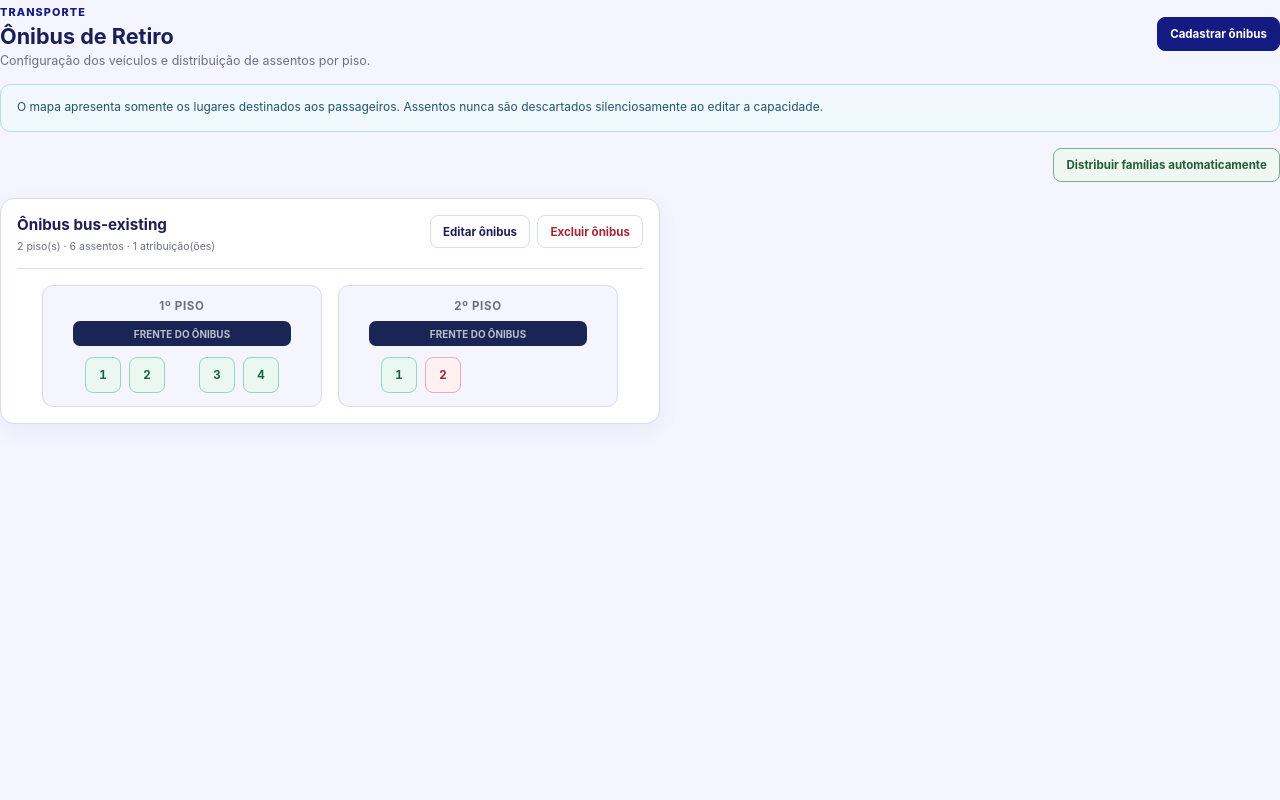
Test: BusManagementPage › não reduz pisos quando isso apagaria assento atribuído
Click the button "Editar ônibus" at x=480, y=232, box x1=430 y1=215 x2=530 y2=248
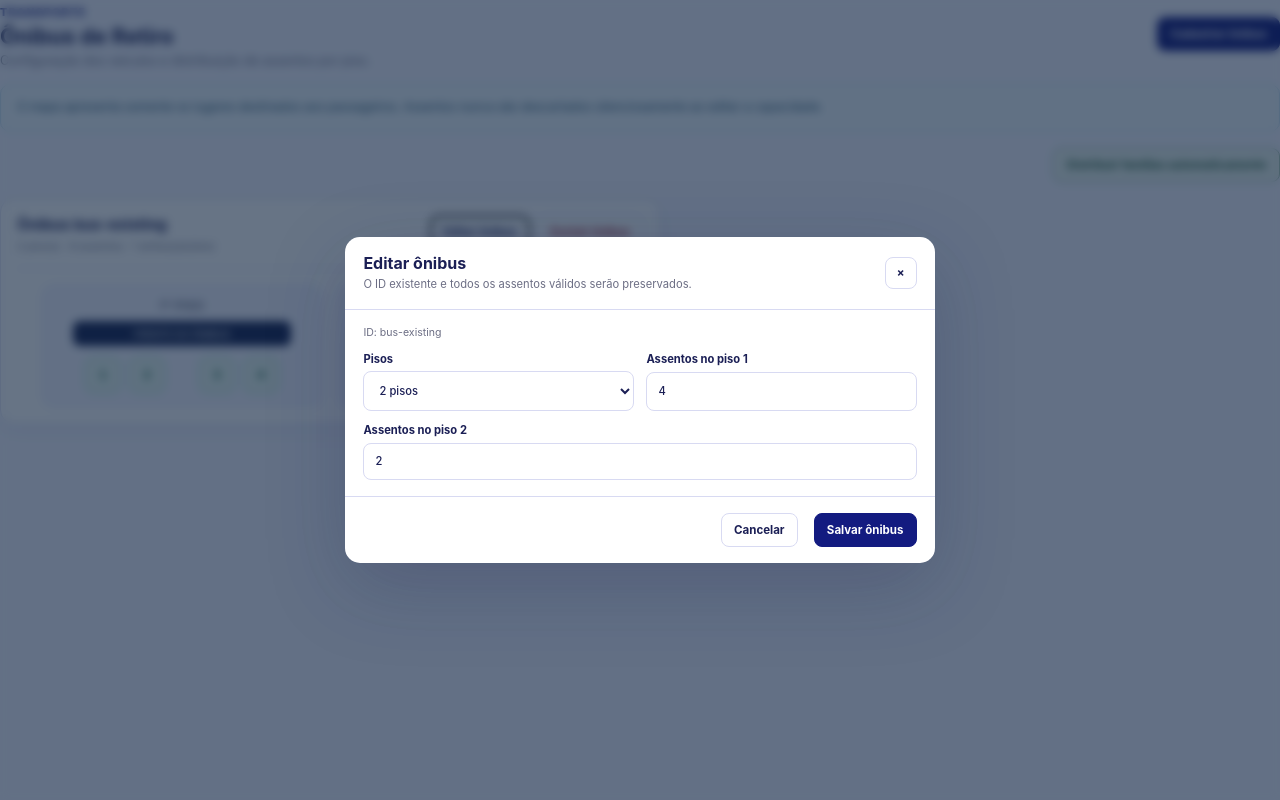
Select "1 piso" in the dropdown labelled "Pisos" at x=498, y=391, box x1=363 y1=371 x2=634 y2=410
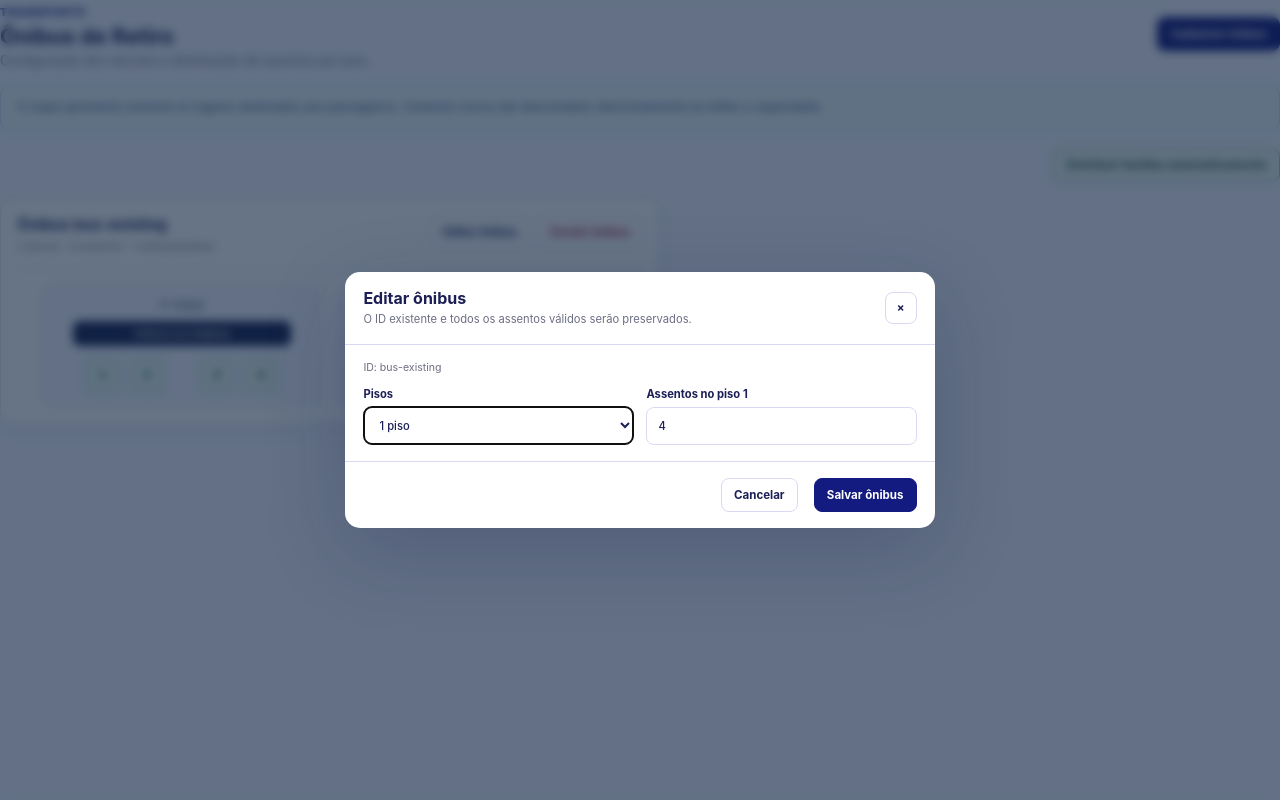
Click the button "Salvar ônibus" at x=865, y=495, box x1=814 y1=478 x2=917 y2=512
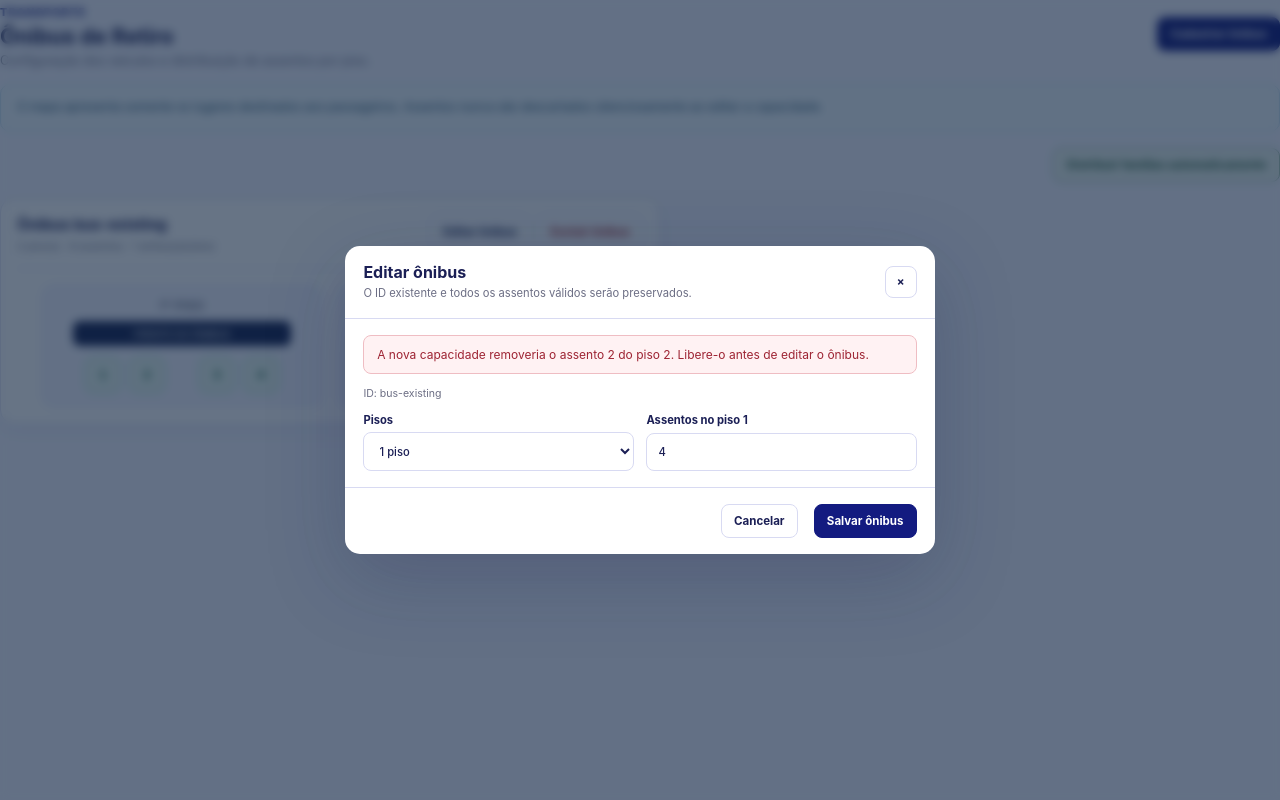
Expected: the message shows "Libere-o antes", x1=377 y1=347 x2=869 y2=362
